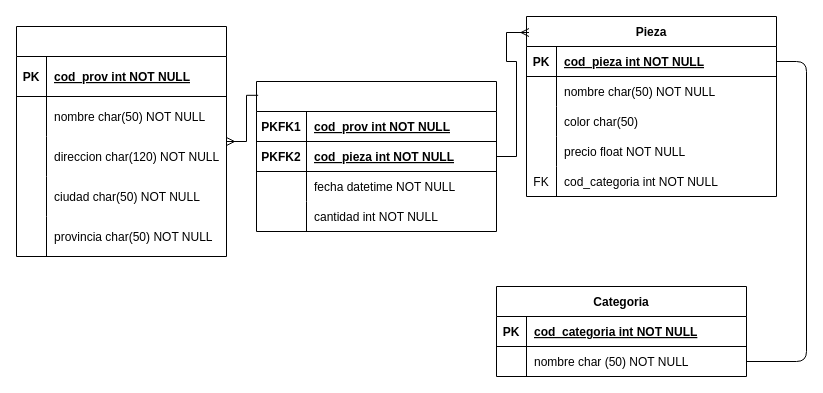
The diagram is 823 pixels wide and 393 high, and some of its shapes have lost their labels. Here are the shapes that lost their labels. From the top down, the box of each, then its label:
(16, 26, 226, 256): Proveedor
(256, 80, 496, 232): Suministro
